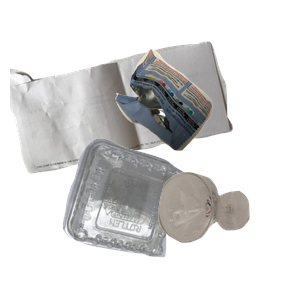glass: (156, 170, 300, 300)
paper: (10, 39, 236, 205)
plastic: (60, 136, 237, 300)
trash: (113, 46, 300, 189)
